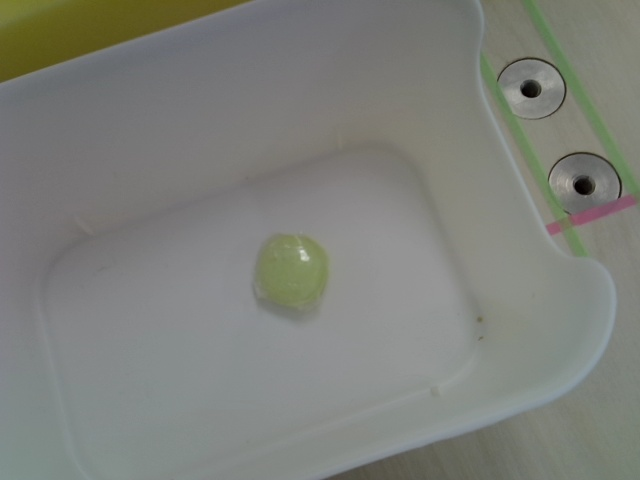씨앗: (253, 233, 331, 313)
